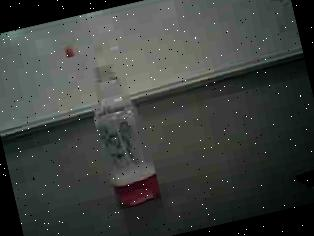hazard: (59, 33, 165, 218)
